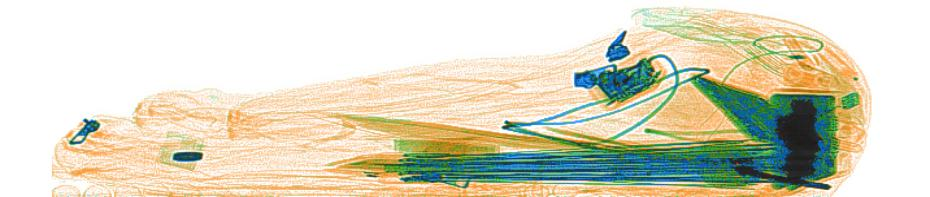battery: (766, 86, 850, 193)
